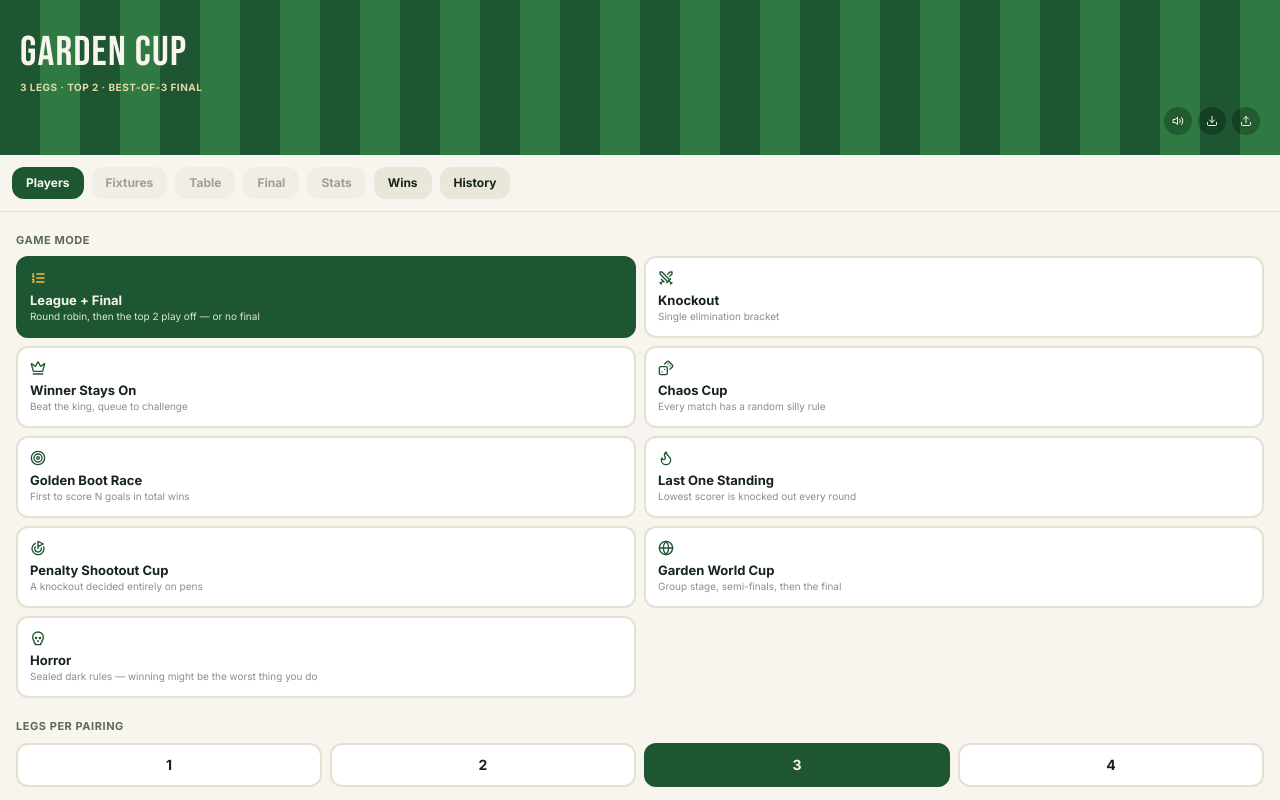
Test: App › enables the Wins tab with no live tournament, while Stats stays disabled
This screenshot has width=1280, height=800.
Expected: the button "Stats" is disabled, [307, 167, 366, 199]
Click the button "Wins".
click(403, 183)  # box [374, 167, 432, 199]
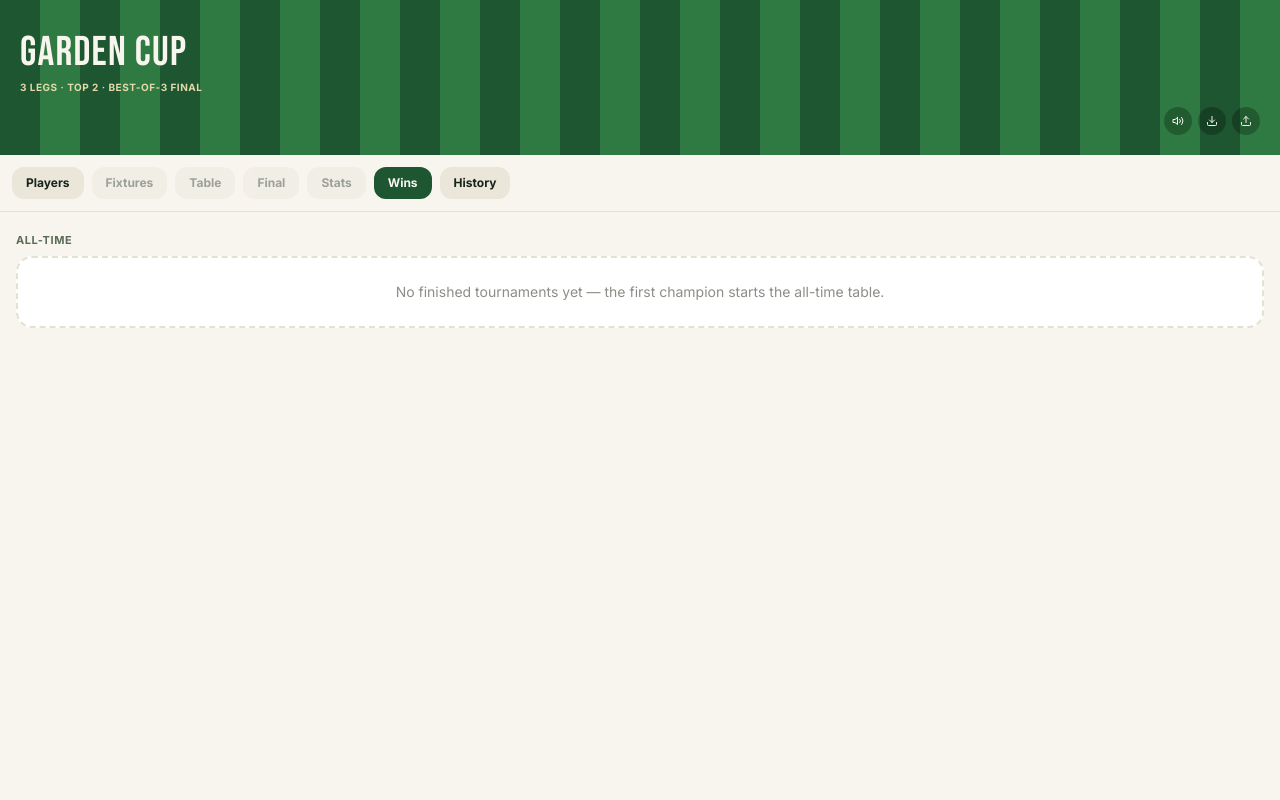
Expected: the text "No finished tournaments yet" is shown, [396, 283, 884, 300]
